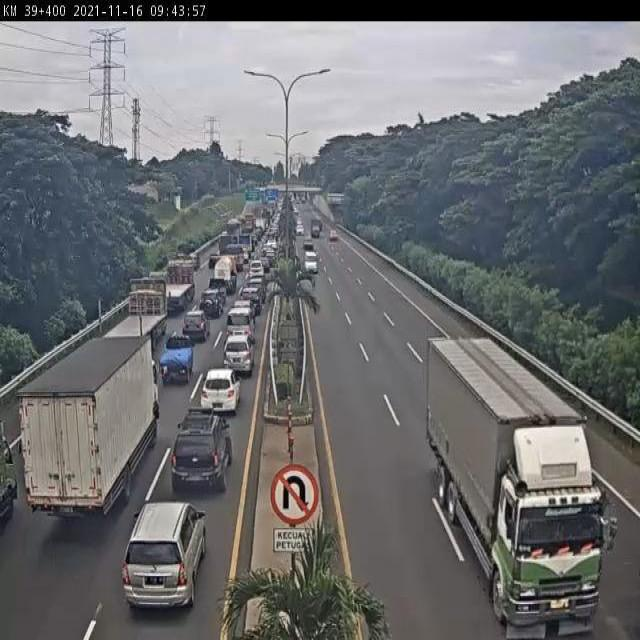car: (119, 500, 211, 615), (172, 412, 235, 497), (199, 368, 239, 421), (156, 333, 195, 387), (222, 335, 255, 380), (225, 308, 254, 348), (178, 312, 206, 345), (199, 291, 222, 321)
truck-l-: (426, 334, 620, 640), (89, 283, 163, 360), (151, 259, 193, 317)
truck-m-: (20, 336, 162, 520)
